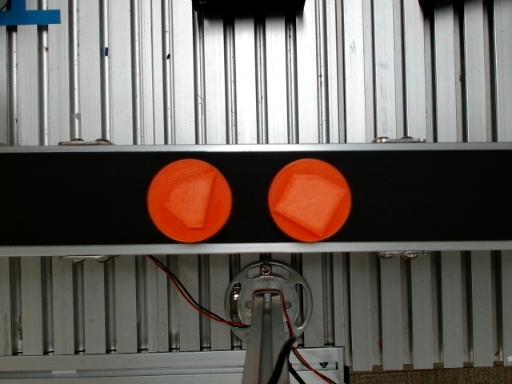Not_Square: (272, 173, 349, 237), (163, 169, 217, 229)
Orange_Waper: (148, 158, 232, 242), (268, 158, 351, 242)
